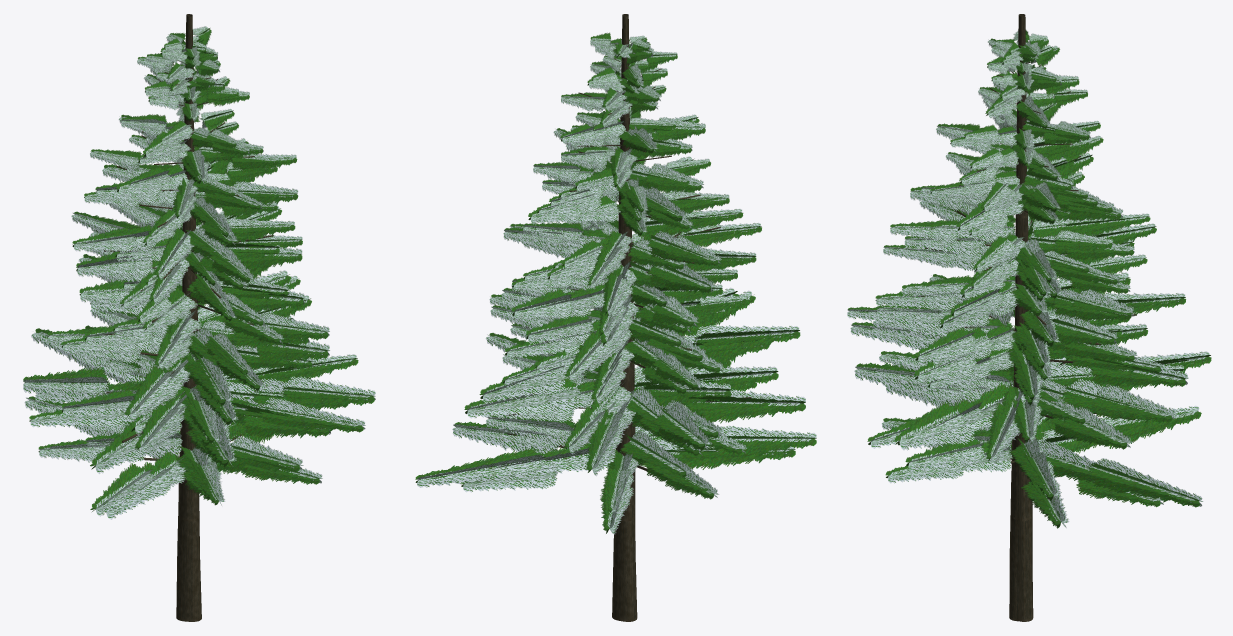
The model's file is spruce-snow.glb.
3 views of the same model, side by side, from view 1: azimuth 30°, elevation 25°; view 2: azimuth 150°, elevation 25°; view 3: azimuth 270°, elevation 25° (orthographic).
Parts seen in each view (by area): view 1: Leaf needle cutouts, Bark ridges; view 2: Leaf needle cutouts, Bark ridges; view 3: Leaf needle cutouts, Bark ridges.
Boxes of the visible parts, left/top/right/bottom form: Leaf needle cutouts: left=23, top=26, right=375, bottom=519; Bark ridges: left=102, top=14, right=309, bottom=621; Leaf needle cutouts: left=415, top=32, right=816, bottom=534; Bark ridges: left=506, top=14, right=751, bottom=621; Leaf needle cutouts: left=847, top=30, right=1211, bottom=528; Bark ridges: left=918, top=14, right=1136, bottom=621.
Size of the model in its own units: 9.72 by 18 by 10.12.
Materials: 2 (2 with a texture image).
